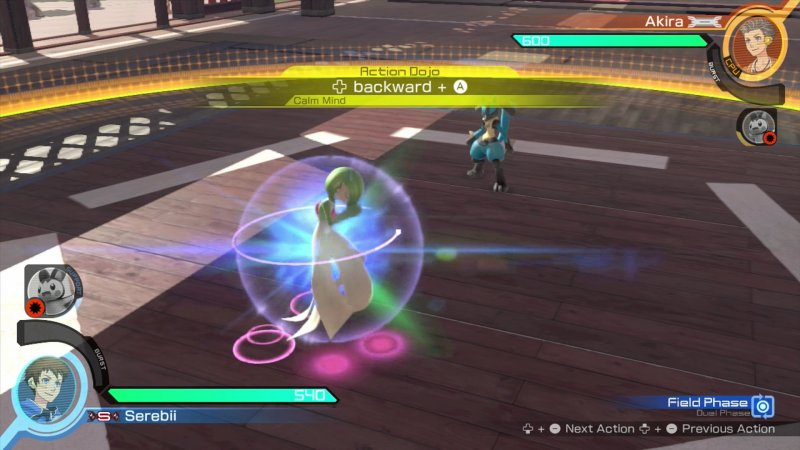gardevoir: (268, 166, 375, 352)
